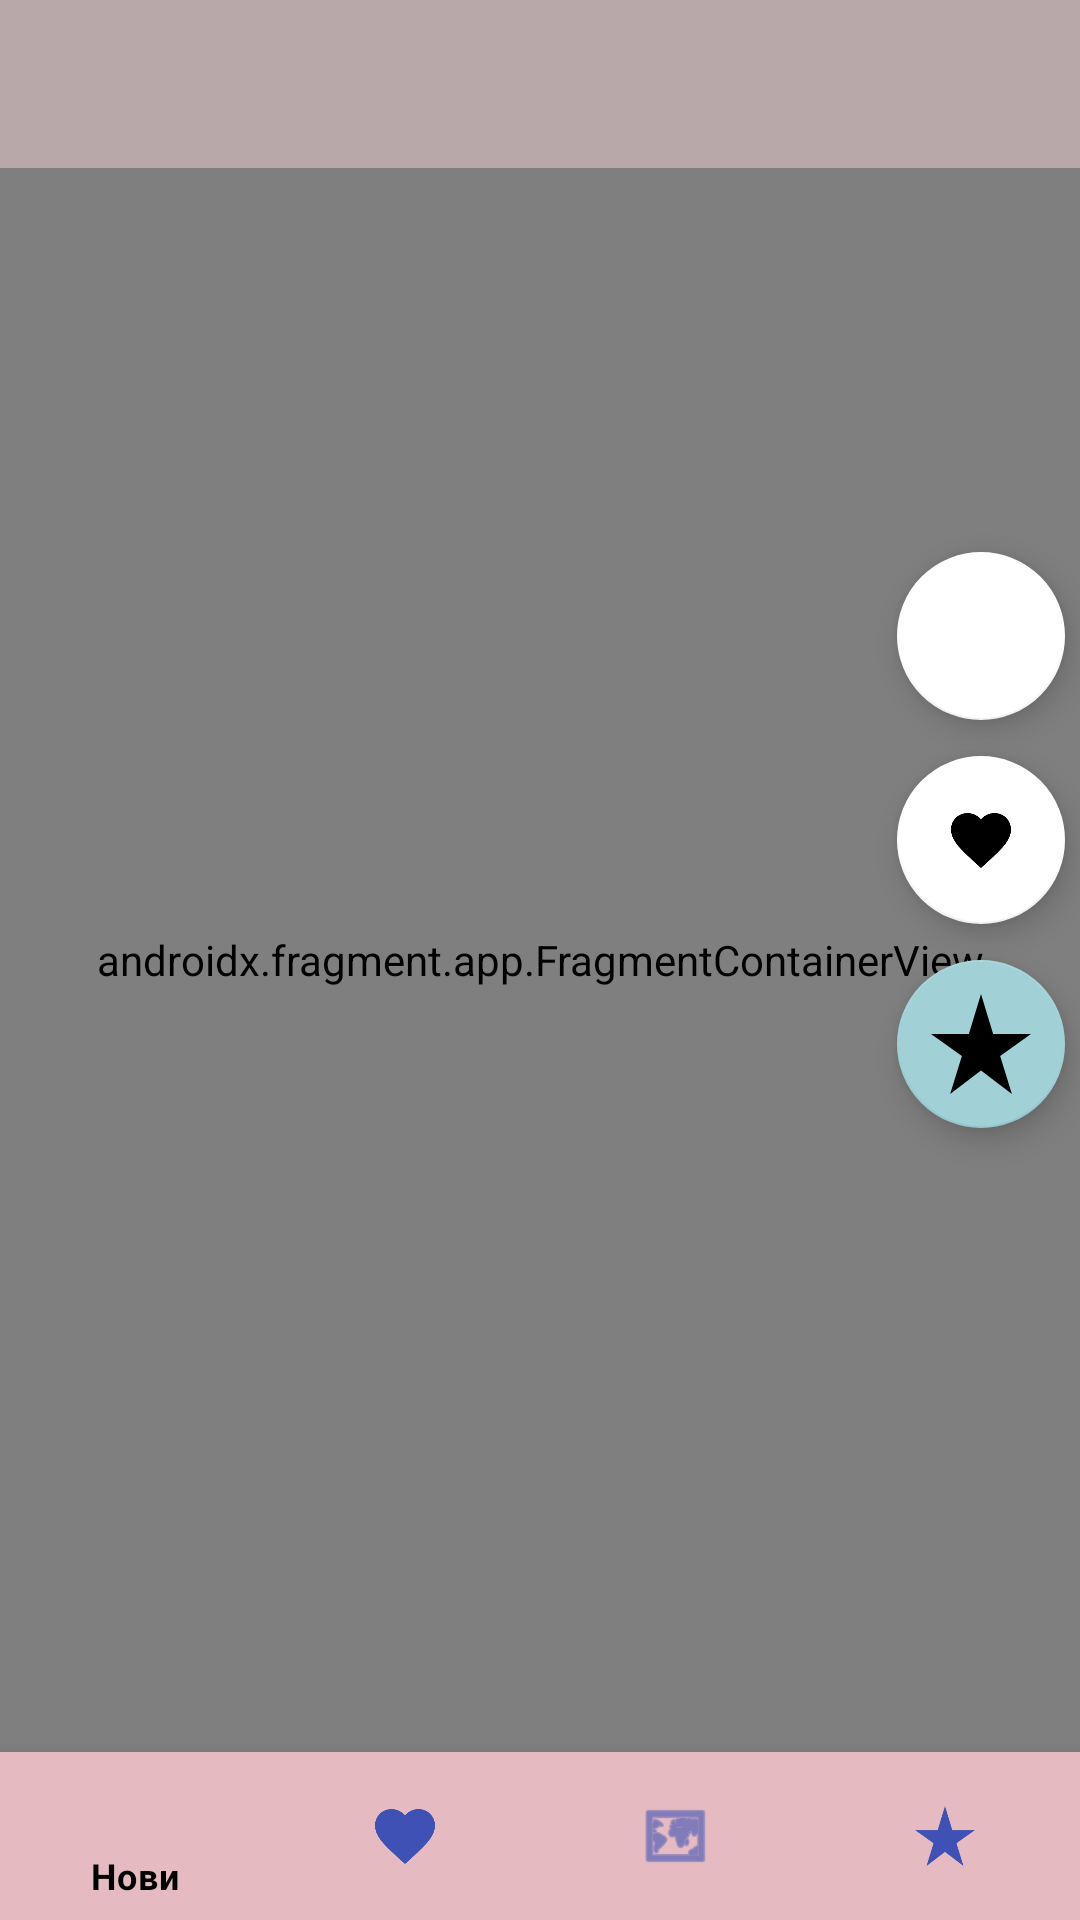

Icons on this 1080×1920 Android screen, each with its box as box(x1, y1, x2, y2):
favorite: box(897, 756, 1065, 924)
rate: box(897, 960, 1065, 1128)
